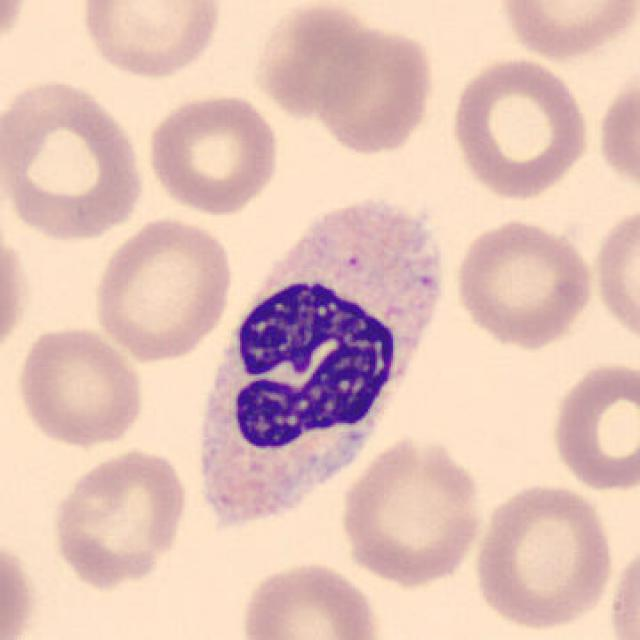Neutrophil: (187, 187, 453, 541)
RBC: (0, 74, 149, 245), (336, 430, 487, 589), (469, 478, 617, 633), (89, 213, 236, 365), (446, 53, 594, 203), (46, 444, 190, 591), (450, 213, 597, 351), (142, 90, 283, 219), (311, 18, 439, 158), (12, 322, 148, 450), (249, 0, 382, 122), (546, 356, 638, 496), (235, 557, 388, 640), (76, 0, 226, 81), (494, 0, 638, 63), (590, 200, 638, 354), (594, 63, 638, 201), (0, 220, 34, 367), (0, 529, 41, 640), (606, 534, 640, 640), (0, 2, 34, 65)
